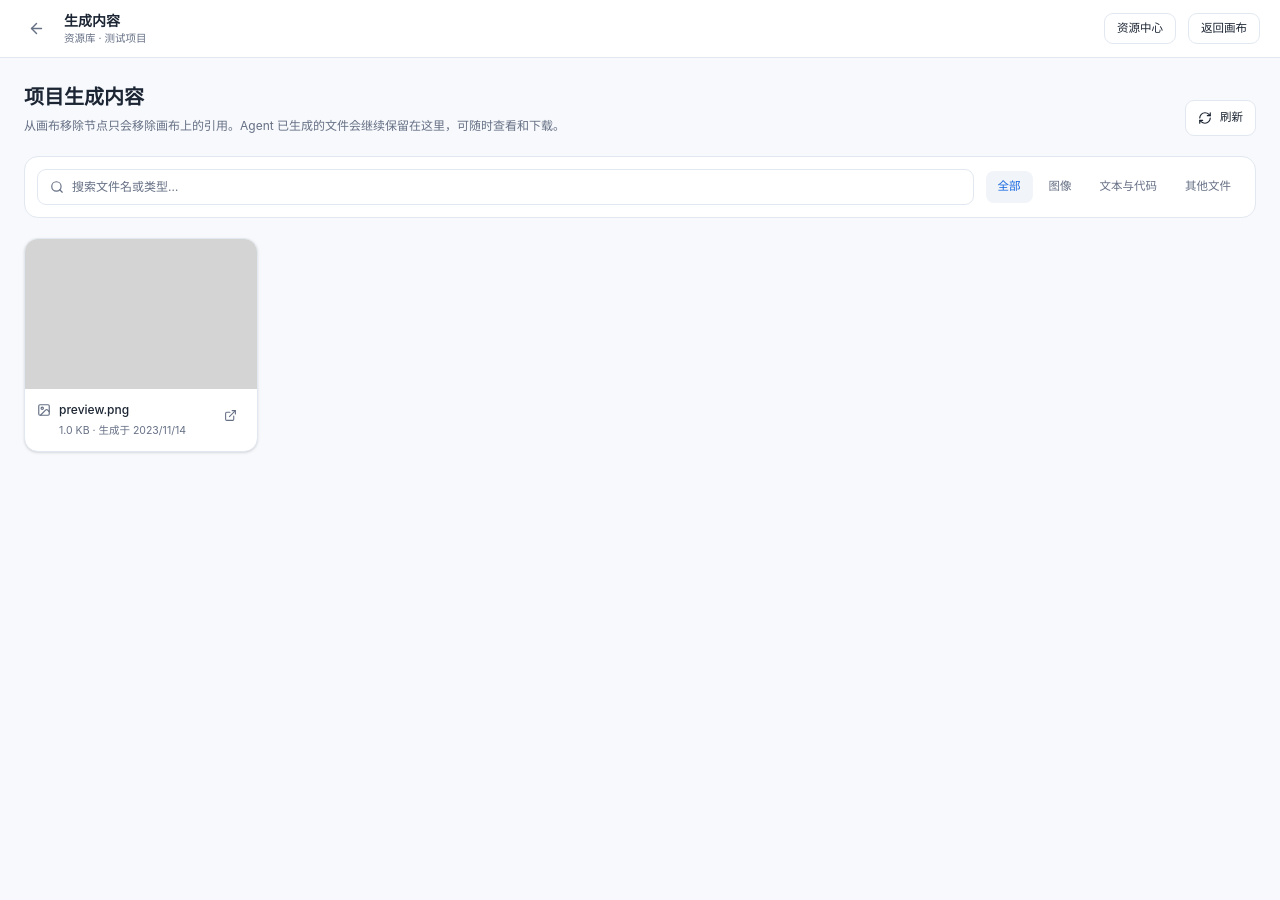
ResourceLibraryContent › lists Run-owned resources independently of Canvas nodes and opens the shared viewer
Click the button "preview.png" at (134, 410), box [59, 401, 209, 419]
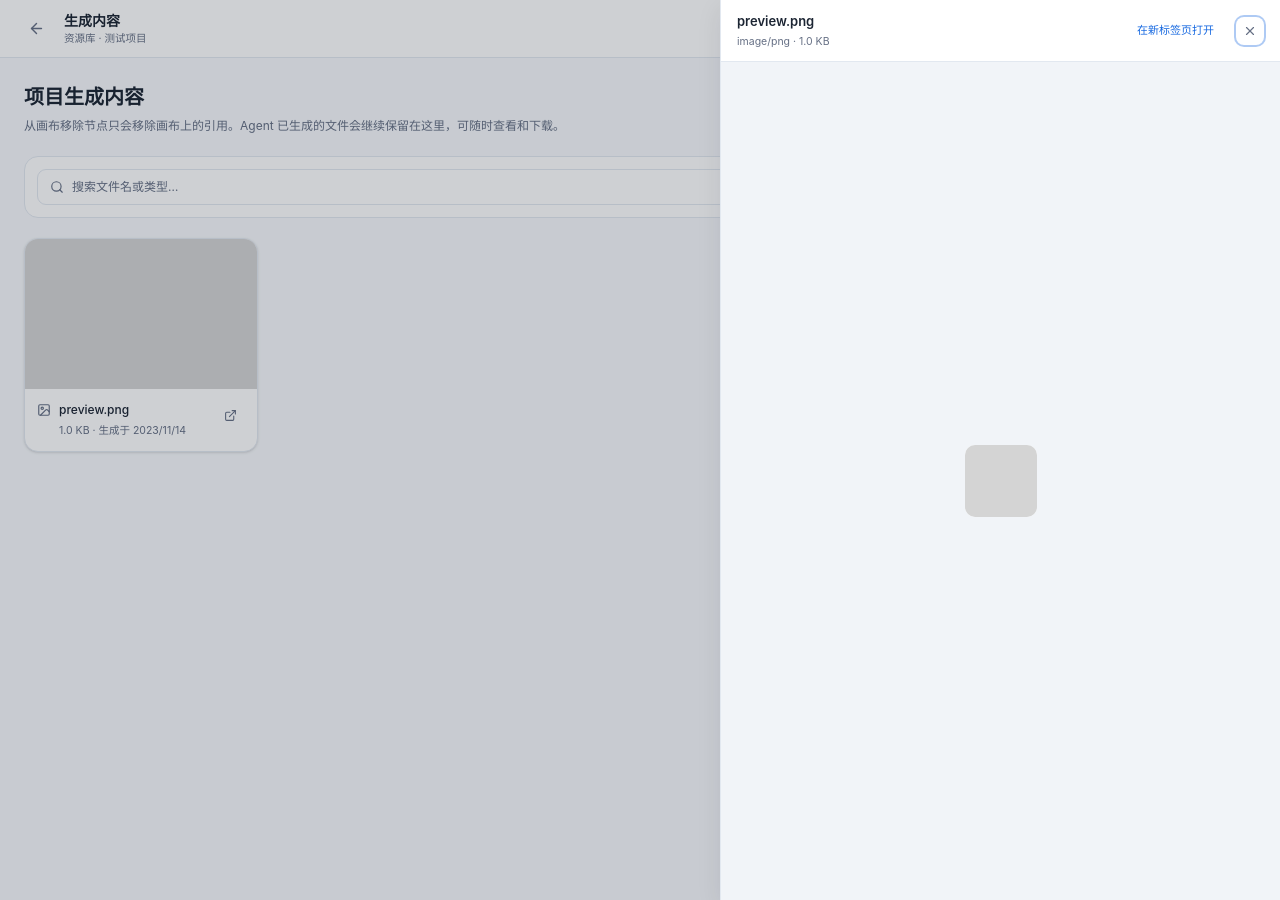
Result: the dialog with test id "canvas-artifact-viewer" is shown at [720, 0, 1279, 899]
